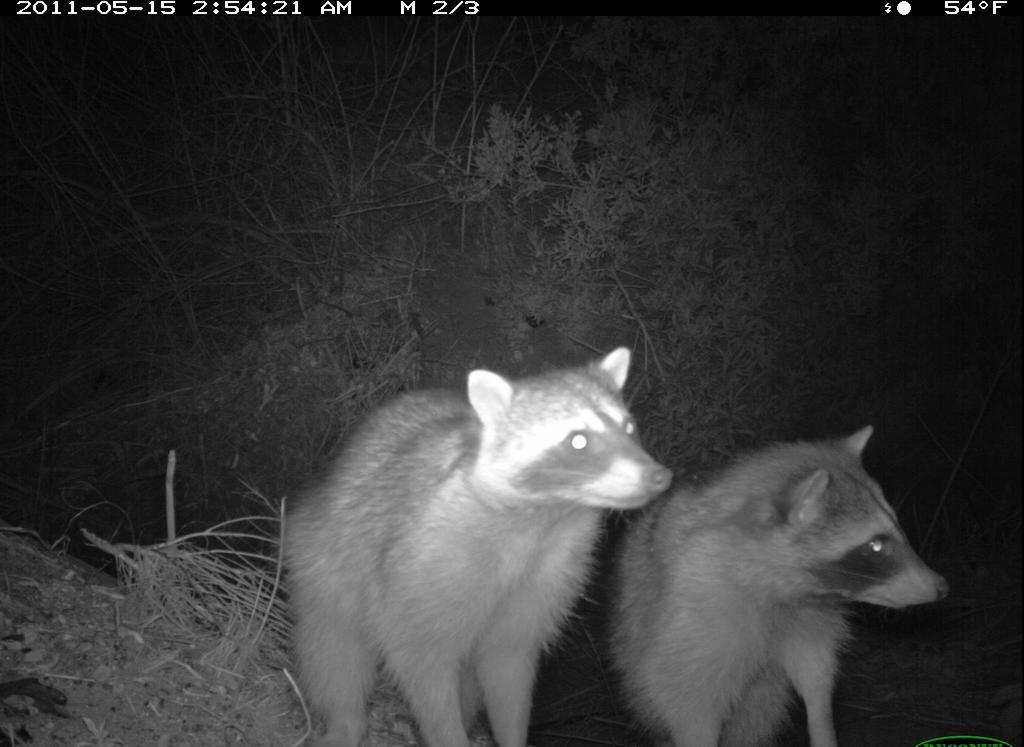raccoon: (271, 341, 675, 747), (620, 411, 962, 747)
